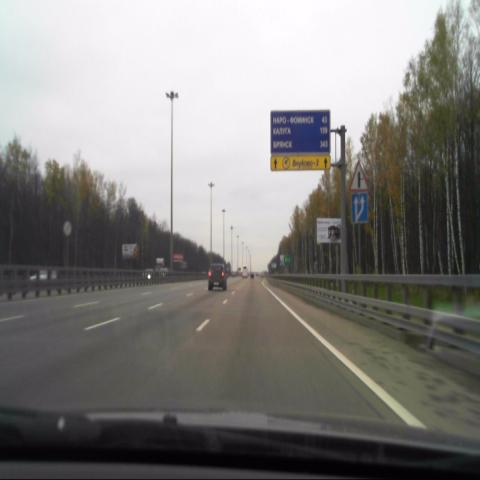5_15_3: (351, 194, 367, 222)
